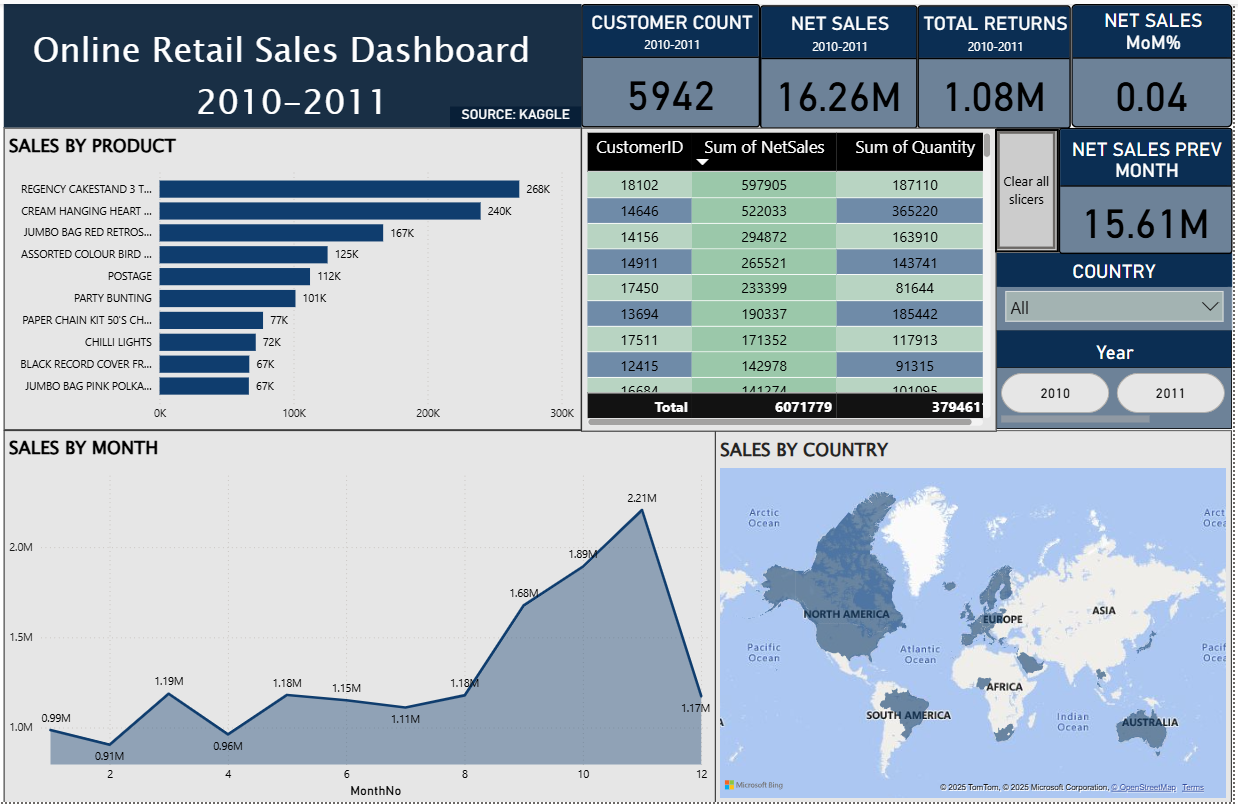

The page's visual inventory and layout, read from the dashboard file:
{"tool":"powerbi","page":{"name":"Executive Overview","canvas":[1400,900],"ordinal":0},"visuals":[{"type":"card","title":"NET SALES MoM%","fields":{"Values":["DimCustomer.Net Sales MoM %"]},"box":[1218.2,0,181.9,139.1],"z":0},{"type":"card","title":"NET SALES","fields":{"Values":["DimCustomer.Net Sales"]},"box":[868.2,1.5,177.3,139.1],"z":1000},{"type":"card","title":"TOTAL RETURNS","fields":{"Values":["DimCustomer.Total Returns (Absolute)"]},"box":[1045.5,1.5,172.7,139.1],"z":2000},{"type":"card","title":"CUSTOMER COUNT","fields":{"Values":["DimCustomer.Customer Count"]},"box":[666.4,0,201.8,139.1],"z":3000},{"type":"areaChart","title":"SALES BY MONTH","fields":{"Y":["Sum(FactSales.NetSales)"],"Category":["DimDate.MonthNo"]},"box":[15.3,480,802.5,420.3],"z":4000},{"type":"filledMap","title":"SALES BY COUNTRY","fields":{"Category":["DimCustomer.Country"]},"box":[817.8,480,582.4,420.3],"z":5000},{"type":"barChart","title":"SALES BY PRODUCT","fields":{"Category":["DimProduct.Descriptionn"],"Y":["Sum(FactSales.NetSales)"]},"box":[15.3,139.1,651.2,340.9],"z":6000},{"type":"advancedSlicerVisual","fields":{"Values":["DimDate.Year"]},"box":[1134.2,368.4,266,111.6],"z":7000},{"type":"slicer","title":"COUNTRY","fields":{"Values":["DimCustomer.Country"]},"box":[1134.2,279.7,266,88.7],"z":8000},{"type":"tableEx","fields":{"Values":["DimCustomer.CustomerID","Sum(FactSales.NetSales)","Sum(FactSales.Quantity)"]},"box":[666.4,139.1,467.7,342.4],"z":9000},{"type":"card","fields":{"Values":["DimCustomer.Dashboard Title"]},"box":[15.3,0,651.2,139.1],"z":10000},{"type":"textbox","title":"SOURCE: KAGGLE","box":[518.2,116.2,148.3,22.9],"z":11000},{"type":"card","title":"NET SALES PREV MONTH","fields":{"Values":["DimCustomer.Net Sales Prev Period (Month)"]},"box":[1204.6,139.5,195.8,142.3],"z":12000},{"type":"actionButton","box":[1132.6,140.6,71.8,139.1],"z":12001}]}

Visuals, with their boxes in screenshot pixels (x1, y1, x2, y2), scaled from the page's 1400x900 canvas onto the 1238x811 screenshot:
"NET SALES MoM%" card: crop(1077, 0, 1237, 125)
"NET SALES" card: crop(768, 1, 925, 127)
"TOTAL RETURNS" card: crop(925, 1, 1077, 127)
"CUSTOMER COUNT" card: crop(589, 0, 768, 125)
"SALES BY MONTH" areaChart: crop(14, 433, 723, 810)
"SALES BY COUNTRY" filledMap: crop(723, 433, 1237, 810)
"SALES BY PRODUCT" barChart: crop(14, 125, 589, 433)
advancedSlicerVisual - DimDate.Year: crop(1003, 332, 1237, 433)
"COUNTRY" slicer: crop(1003, 252, 1237, 332)
tableEx - DimCustomer.CustomerID x Sum(FactSales.NetSales): crop(589, 125, 1003, 434)
card - DimCustomer.Dashboard Title: crop(14, 0, 589, 125)
"SOURCE: KAGGLE" textbox: crop(458, 105, 589, 125)
"NET SALES PREV MONTH" card: crop(1065, 126, 1237, 254)
actionButton: crop(1002, 127, 1065, 252)
